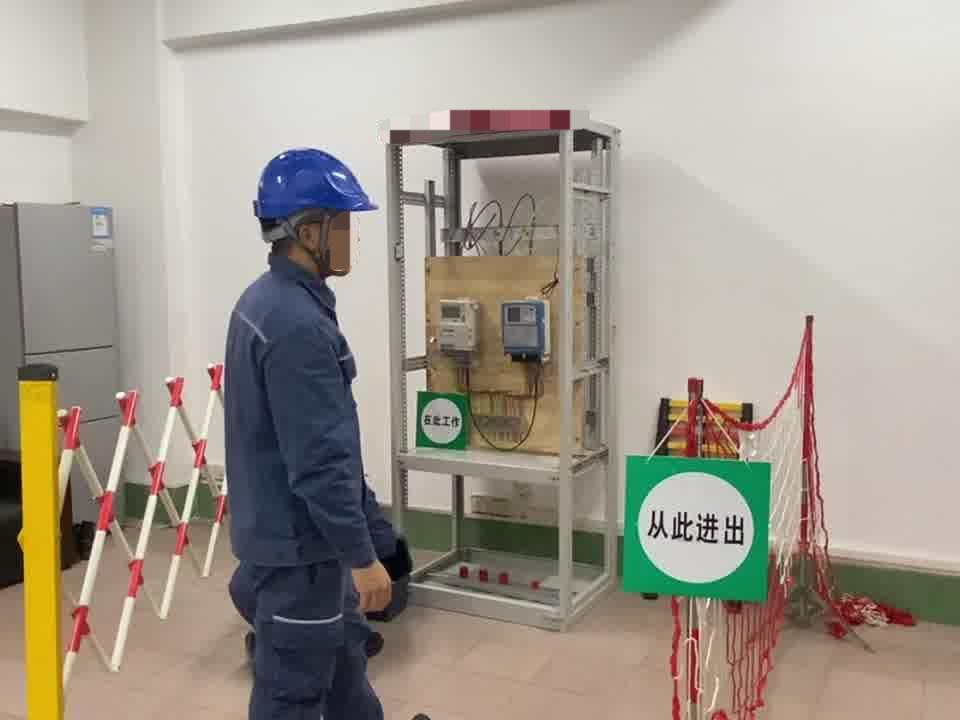halt: (254, 149, 381, 279)
inear: (288, 215, 335, 260)
